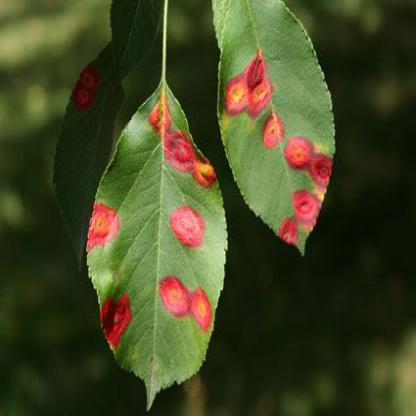Apple rust leaf: (86, 74, 238, 414), (214, 3, 350, 264)
